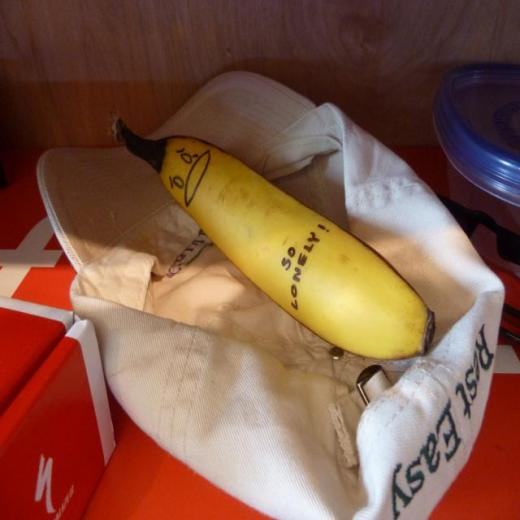Banana: (107, 108, 436, 361)
